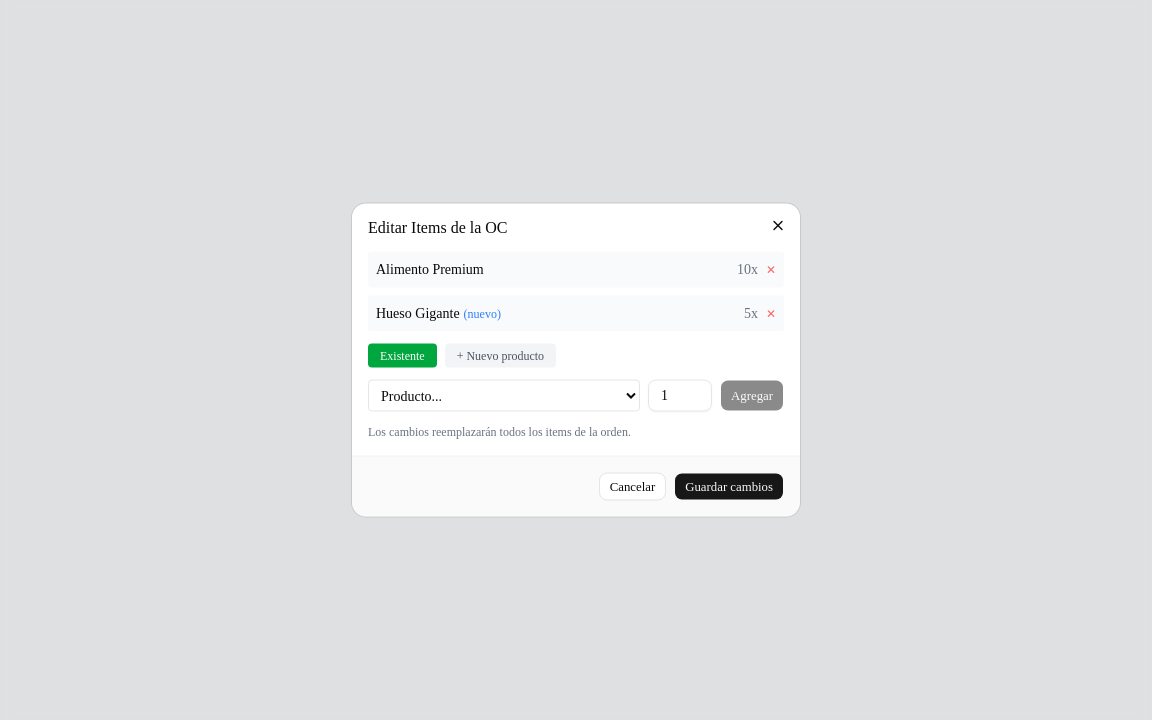
Test case: EditOrderItemsDialog › EOI-02: agregar items adicionales › permite agregar un producto existente adicional
Select "Arena Gatitos" in the dropdown at {"x": 504, "y": 396}, box [368,380,640,412]
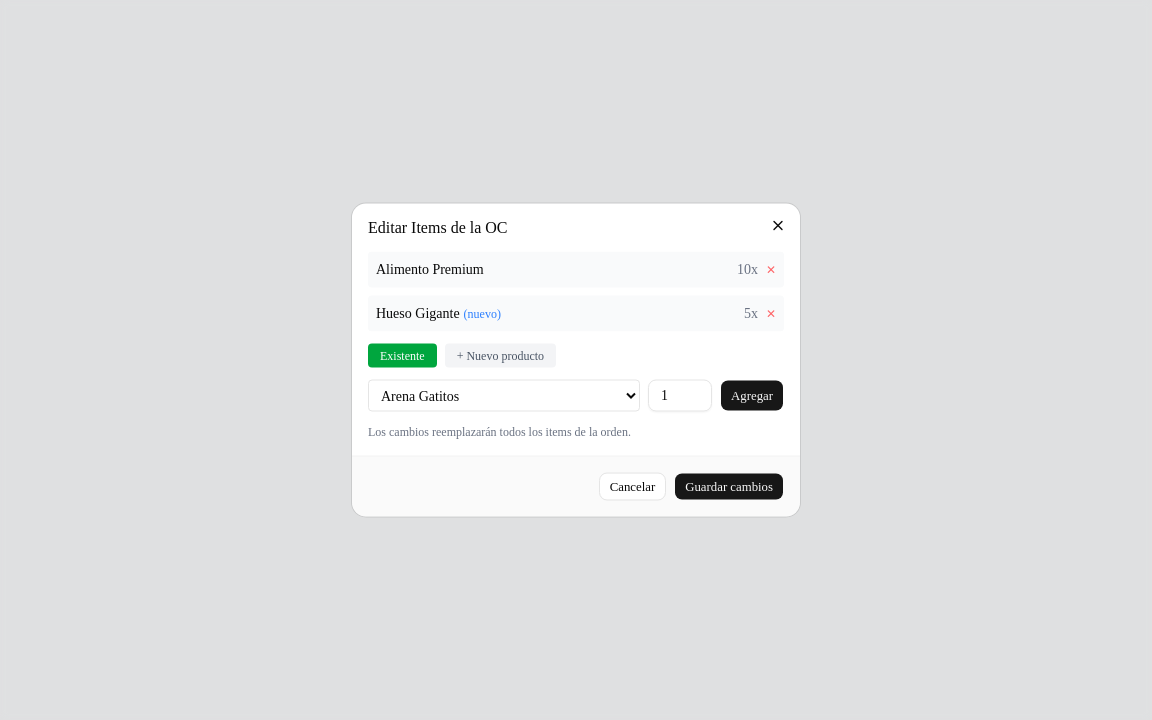
Click the button "Agregar" at {"x": 752, "y": 396}, box [720,380,784,412]
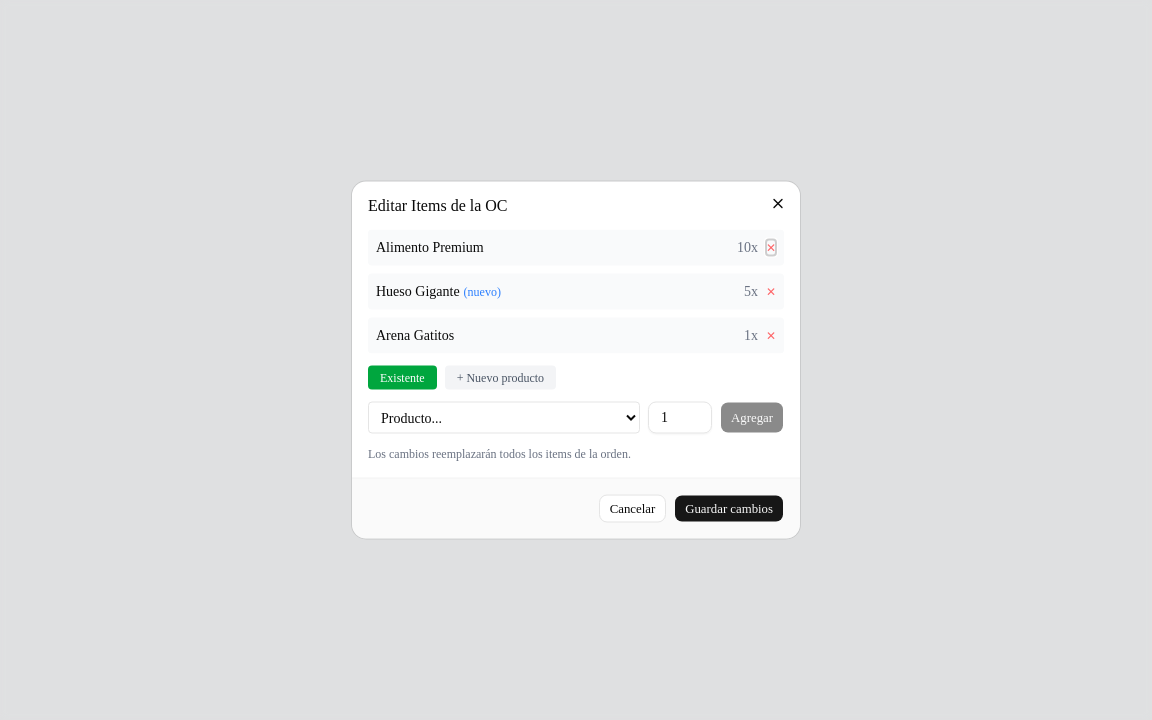
Result: the text "Arena Gatitos" is shown at [376,326,454,346]
